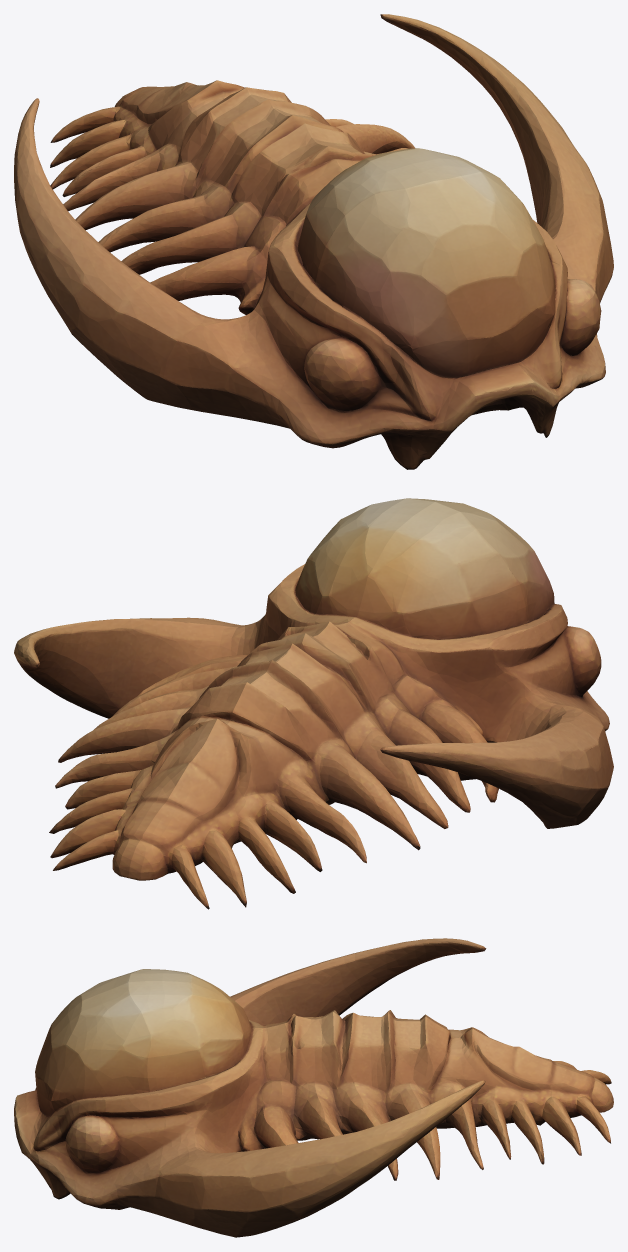
The picture shows the model from 3 angles, top to bottom: view 1: azimuth 30°, elevation 25°; view 2: azimuth 150°, elevation 25°; view 3: azimuth 270°, elevation 25°; orthographic projection. The views are drawn at different scales.
Parts seen in each view (by area): view 1: world; view 2: world; view 3: world.
Boxes of the visible parts, <box> form: world: <box>14,14,613,469</box>; world: <box>14,498,613,909</box>; world: <box>14,938,613,1237</box>.
Size of the model in its own units: 0.8035 by 0.3514 by 1.
Materials: 1 (1 with a texture image).
